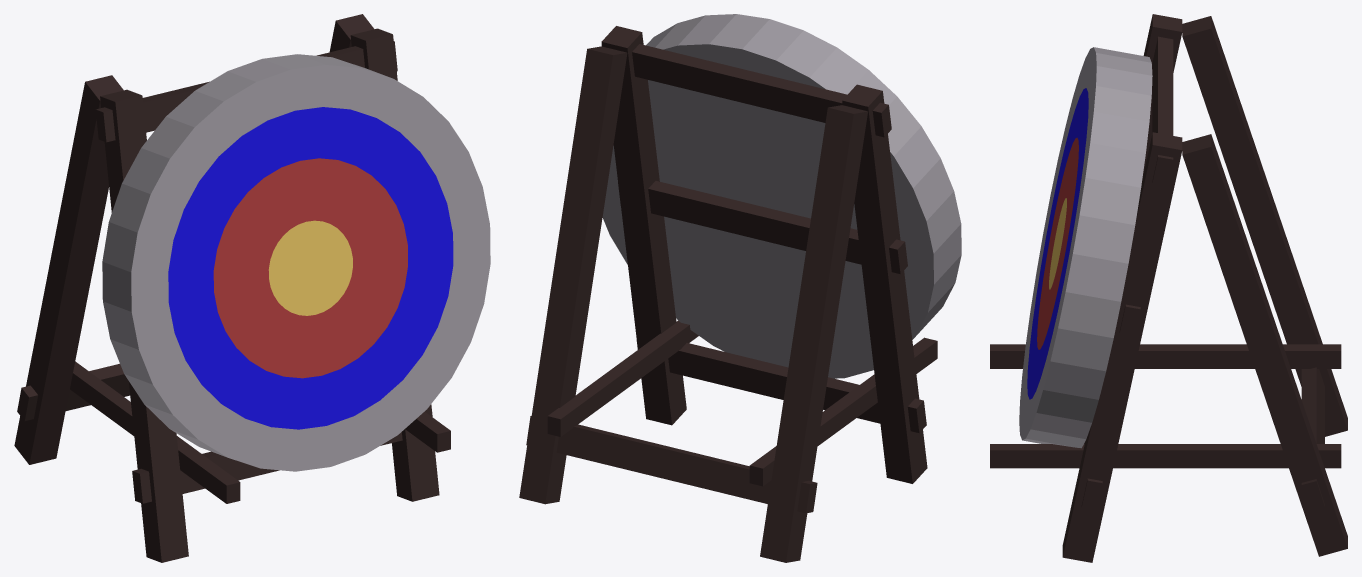
Rendered from Archery.fbx.
The picture shows the model from 3 angles, left to right: view 1: azimuth 30°, elevation 25°; view 2: azimuth 150°, elevation 25°; view 3: azimuth 270°, elevation 25°; orthographic projection. The views are drawn at different scales.
Parts seen in each view (by area): view 1: Circle.008; view 2: Circle.008; view 3: Circle.008.
Part boxes in pixels (x1,y1,x2,y2): Circle.008: (14,14,490,562); Circle.008: (519,14,961,562); Circle.008: (990,14,1347,562).
Size of the model in its own units: 172 by 206 by 154.
